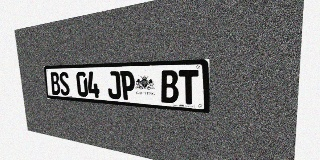0: (76, 72, 88, 97)
4: (87, 71, 100, 98)
B: (160, 70, 179, 104), (50, 72, 61, 95)
J: (107, 71, 121, 99)
P: (120, 71, 136, 100)
S: (59, 72, 70, 96)
T: (179, 70, 199, 105)
